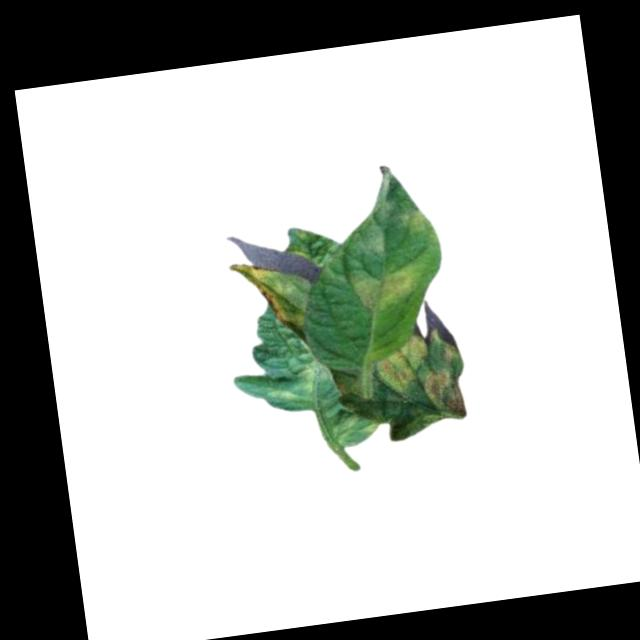Leaf_Mold: (371, 328, 468, 428), (226, 253, 309, 337), (288, 330, 339, 395), (350, 264, 413, 314)
